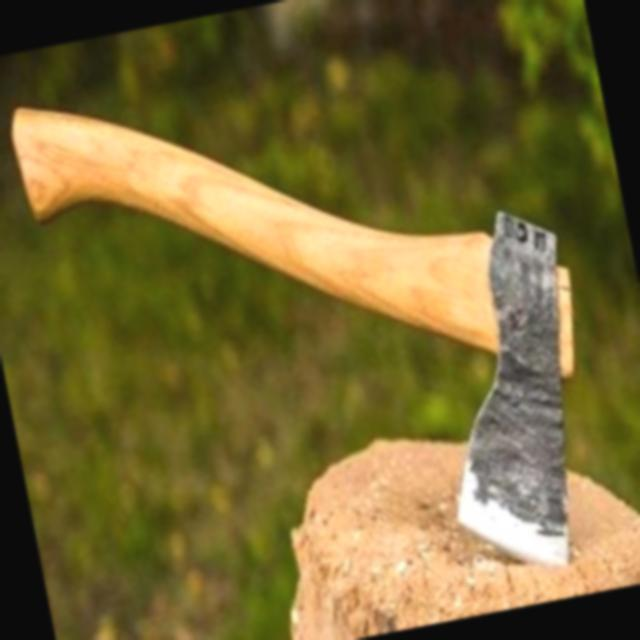ax: (3, 3, 628, 640)
